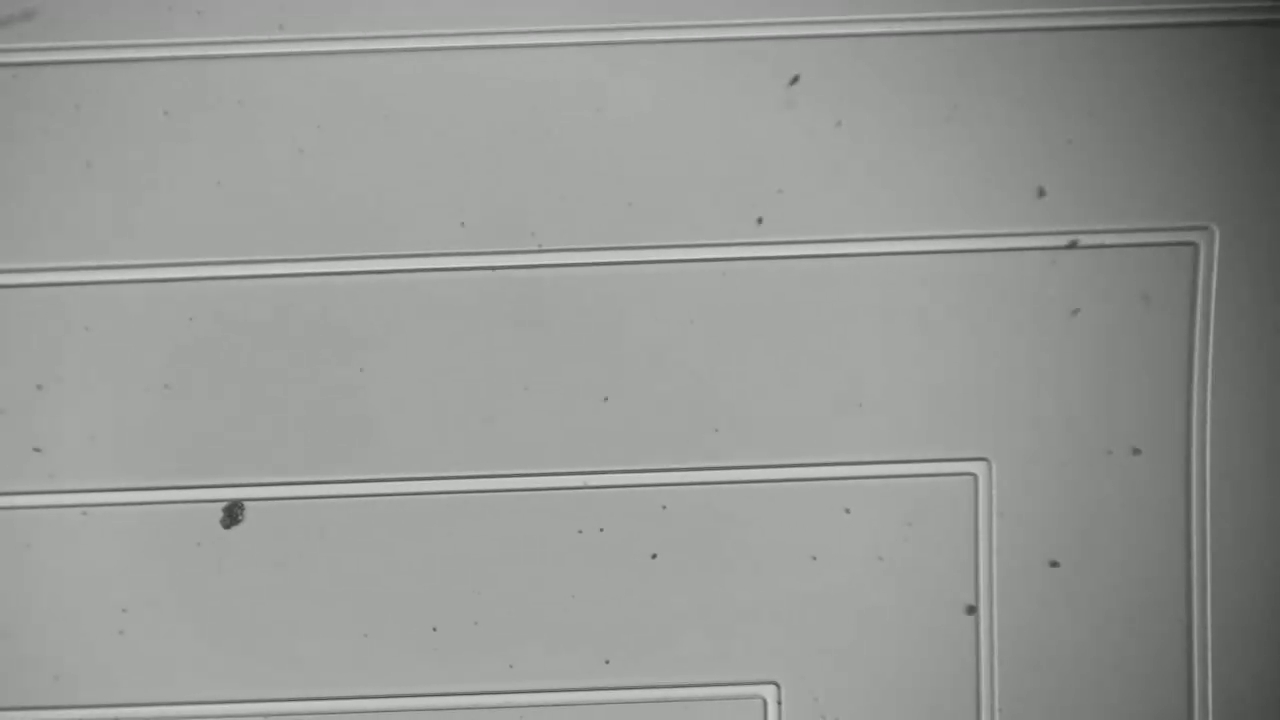stains_enbedded: (1066, 227, 1086, 255)
